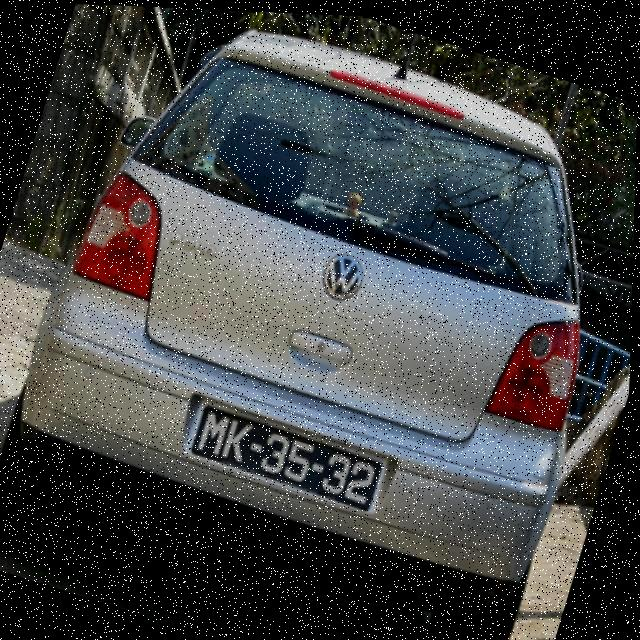license_plate: (188, 400, 387, 510)
